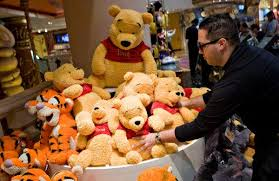Winnie: (99, 5, 157, 68), (114, 97, 153, 137), (84, 98, 118, 138), (154, 76, 180, 115)
